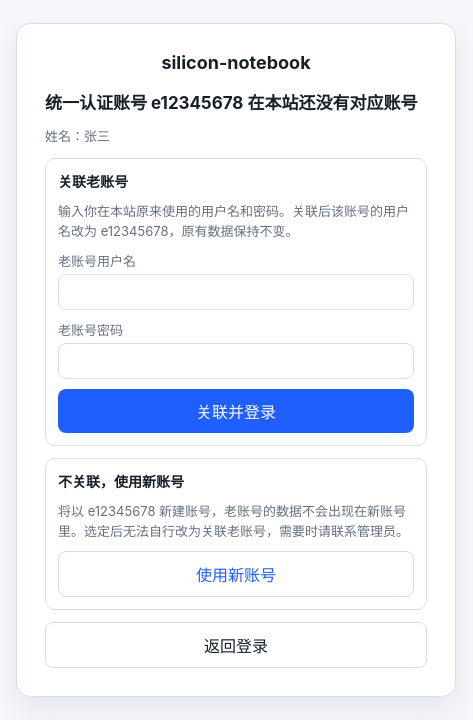
Test: link: empty fields are caught before any request
This screenshot has width=473, height=720.
Click the button "关联并登录". click: [236, 411]
box: [58,389,414,433]
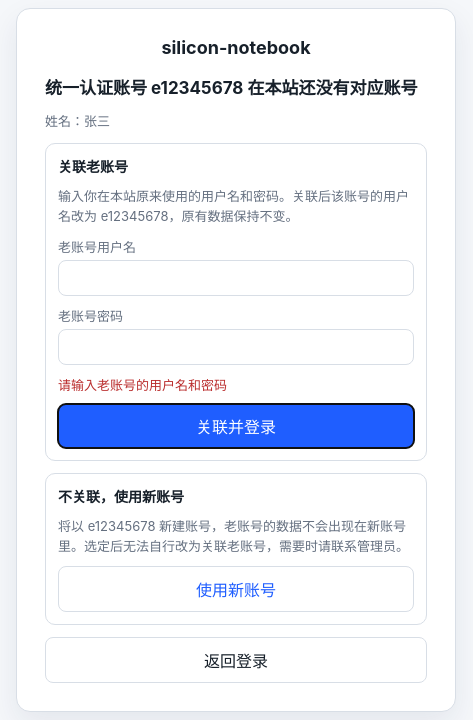
Now the form "关联老账号" shows "请输入老账号的用户名和密码", box [58,377,227,393]
